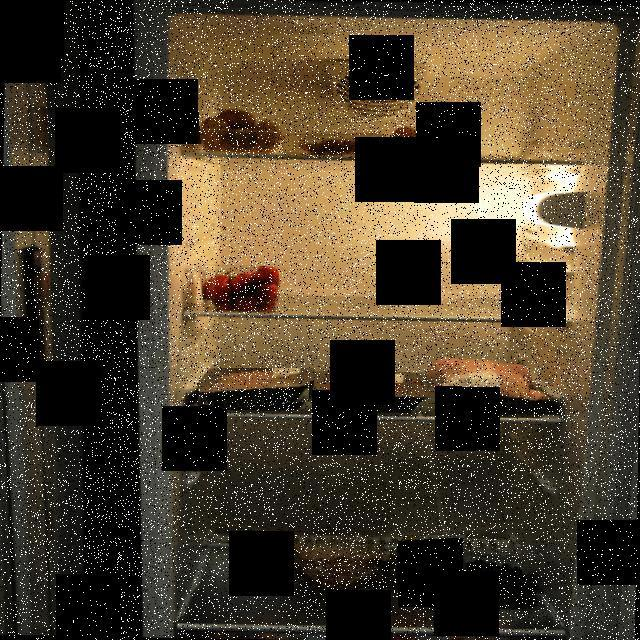banana: (376, 535, 466, 585)
beef: (312, 368, 434, 412)
blueberries: (459, 543, 544, 594)
bread: (284, 540, 391, 588)
chicken: (428, 350, 560, 415)
chicken_breast: (198, 368, 316, 411)
eggs: (386, 124, 466, 160)
potato: (195, 105, 282, 153)
shrimp: (291, 134, 388, 158)
strawberries: (198, 266, 279, 310)
